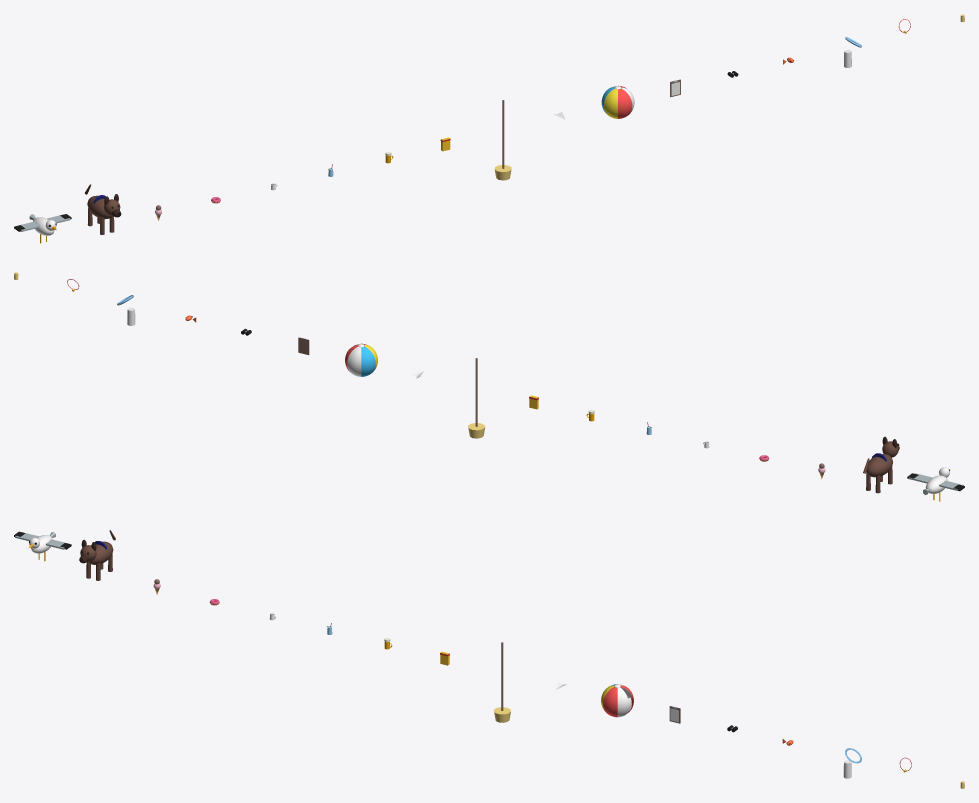
The model's file is interiors_props.glb.
3 renders of one model, top to bottom at view 1: azimuth 30°, elevation 25°; view 2: azimuth 150°, elevation 25°; view 3: azimuth 330°, elevation 25°, orthographic.
Parts seen in each view (by area): view 1: K9_body, Ball_body; view 2: K9_body, Ball_body; view 3: K9_body, Ball_body.
Part boxes in pixels (left/top/right/bottom): K9_body: left=87, top=194, right=121, bottom=234; Ball_body: left=601, top=85, right=634, bottom=118; K9_body: left=866, top=436, right=899, bottom=493; Ball_body: left=345, top=343, right=377, bottom=376; K9_body: left=79, top=539, right=113, bottom=580; Ball_body: left=601, top=684, right=633, bottom=717.
Size of the model in its own units: 19.79 by 1.76 by 1.25.
